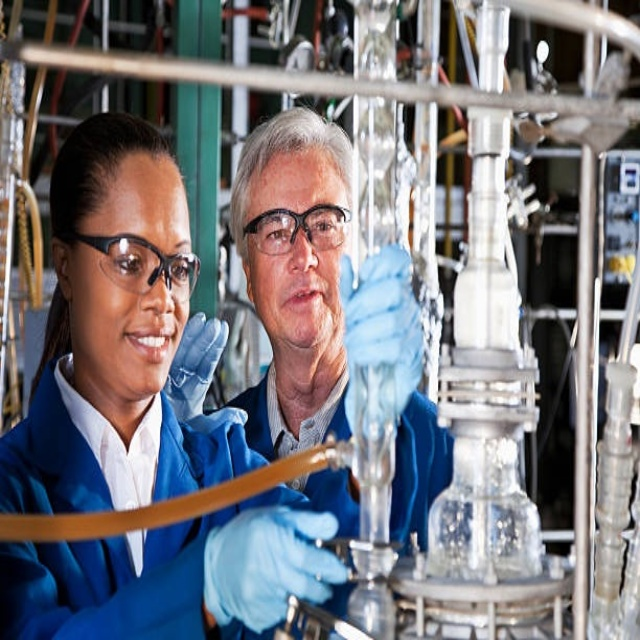Gafas: (72, 231, 202, 301), (242, 205, 352, 255)
Guantes: (202, 495, 349, 636), (340, 246, 426, 435), (163, 311, 232, 425)
Sin_mascara: (119, 317, 174, 386), (278, 284, 329, 342)
